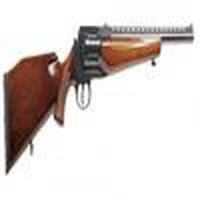gun: (3, 24, 199, 174)
